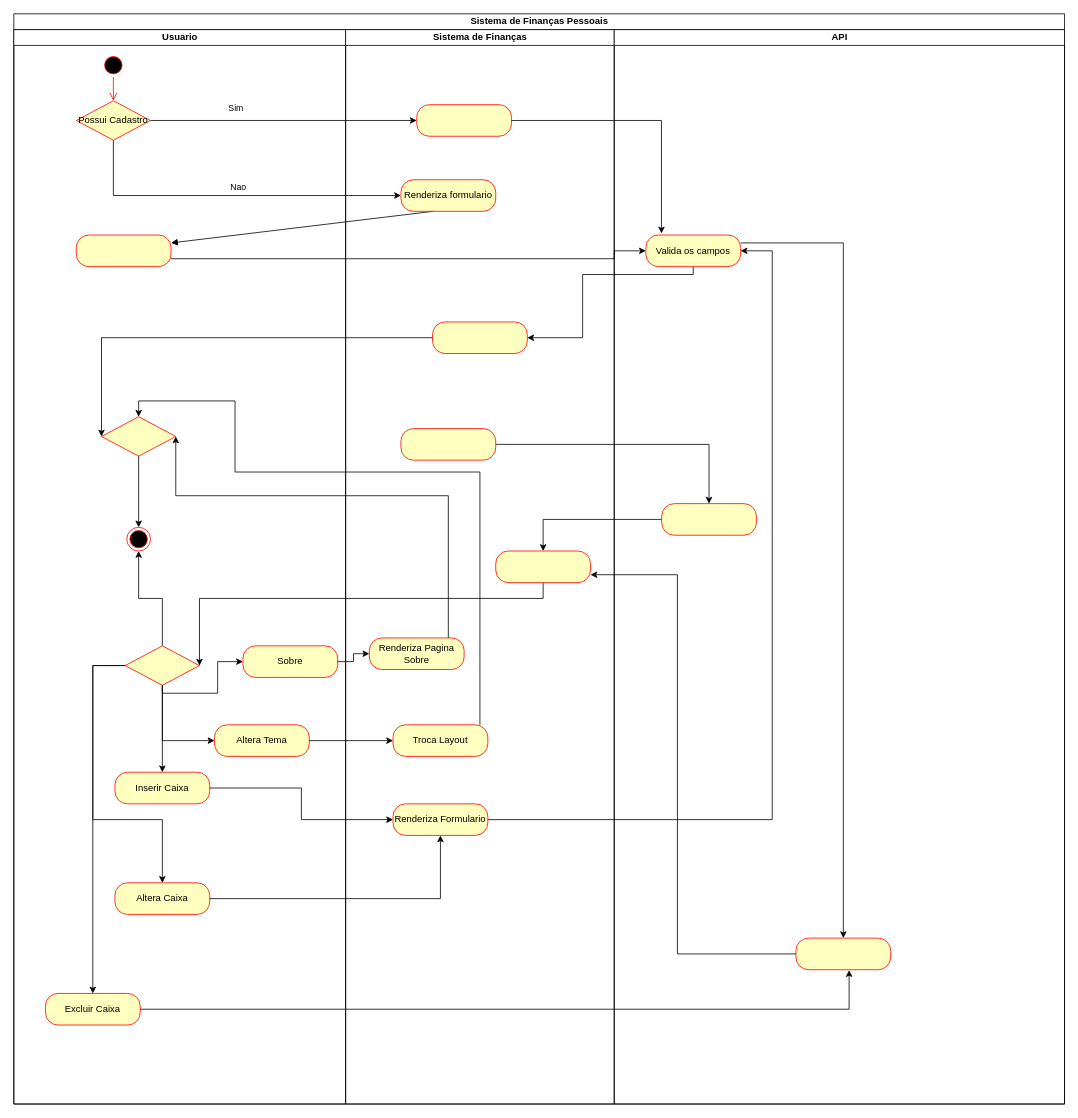
This 1078x1118 diagram has some shape labels left out. Here are the shapes that lost their labels. From the top down, the centre of each, then its label:
[464,120]: Renderiza tela login
[123,250]: Usuario preenche os campos
[479,337]: Renderiza pagina Principal
[448,444]: Renderiza Pagina Fluxo de Caixa
[708,519]: Fornece despesas e Receitas Cadastradas
[543,566]: Renderiza Fluxo de Caixa
[843,953]: Atualiza Banco de Dados
